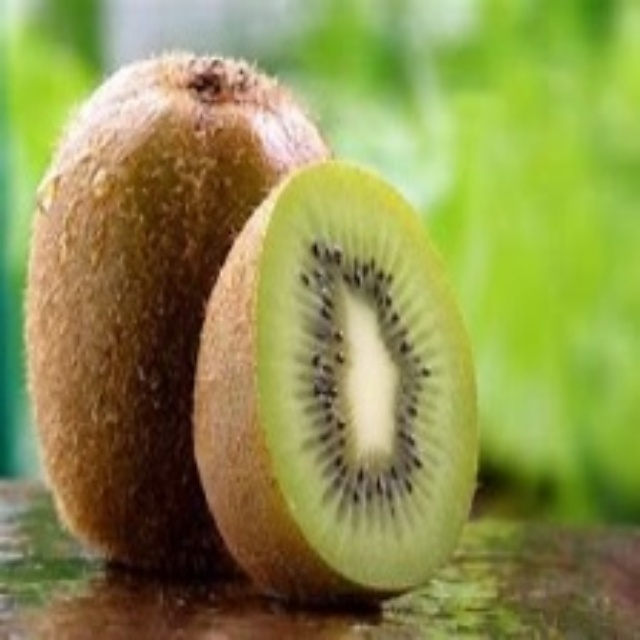kiwi: (35, 57, 296, 576), (193, 154, 472, 618)
